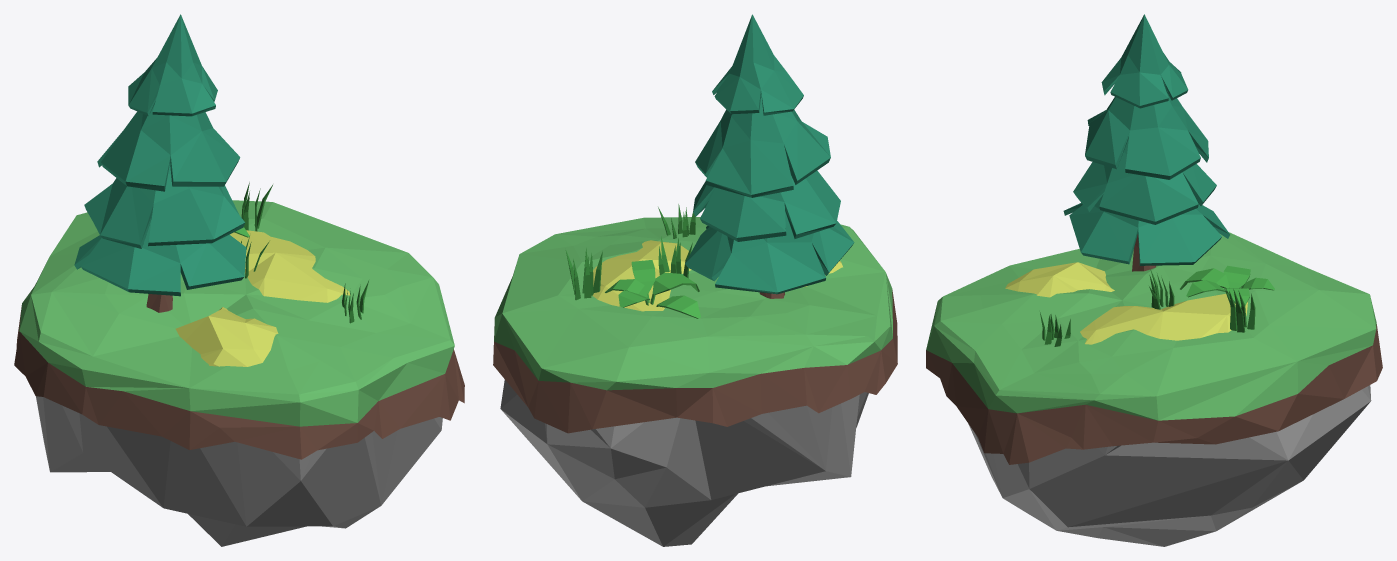
The model's file is land-26-2.fbx.
3 renders of one model, left to right at view 1: azimuth 30°, elevation 25°; view 2: azimuth 150°, elevation 25°; view 3: azimuth 270°, elevation 25°, orthographic. The views are drawn at different scales.
Parts seen in each view (by area): view 1: polySurface12470, pasted__polySurface6053; view 2: polySurface12470, pasted__polySurface6053, pCube3678.001, polySurface12486, polySurface12488, polySurface12487; view 3: polySurface12470, pasted__polySurface6053, pCube3678.001, polySurface12486.
Boxes of the visible parts, box(x1,y1,x2,y2) form: polySurface12470: box(14, 200, 464, 546); pasted__polySurface6053: box(74, 14, 246, 312); polySurface12470: box(493, 217, 897, 546); pasted__polySurface6053: box(685, 14, 854, 298); pCube3678.001: box(605, 260, 700, 318); polySurface12486: box(565, 248, 602, 300); polySurface12488: box(658, 236, 692, 278); polySurface12487: box(658, 204, 695, 238); polySurface12470: box(926, 232, 1382, 546); pasted__polySurface6053: box(1063, 14, 1230, 271); pCube3678.001: box(1180, 265, 1274, 307); polySurface12486: box(1223, 286, 1255, 332).
Bounding box in the file's own units: 434 × 606 × 492.
1 material, 1 textured.
